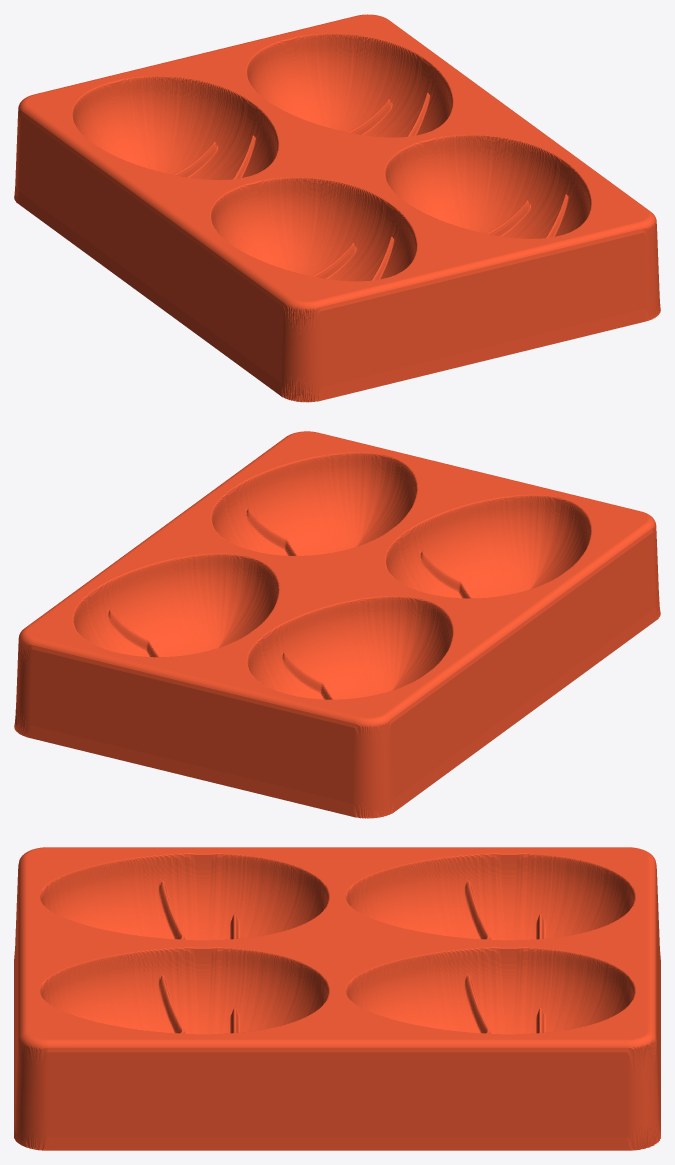
The model's file is mold.glb.
The picture shows the model from 3 angles, top to bottom: view 1: azimuth 30°, elevation 25°; view 2: azimuth 150°, elevation 25°; view 3: azimuth 270°, elevation 25°; orthographic projection. The views are drawn at different scales.
Parts seen in each view (by area): view 1: geometry_0; view 2: geometry_0; view 3: geometry_0.
Part boxes in pixels (box(x1,y1,x2,y2)): geometry_0: box(14, 14, 660, 402); geometry_0: box(14, 431, 660, 818); geometry_0: box(14, 847, 660, 1150).
Size of the model in its own units: 0.1277 by 0.031 by 0.1721.
